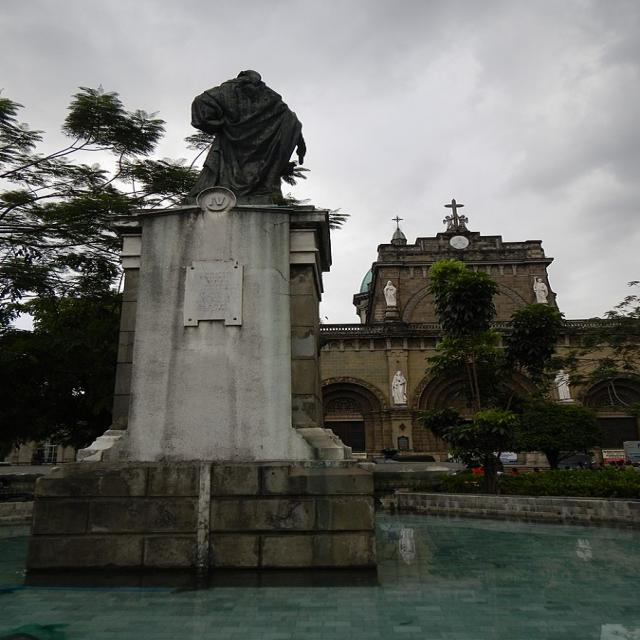King Charles IV Monument: (16, 60, 395, 599)
